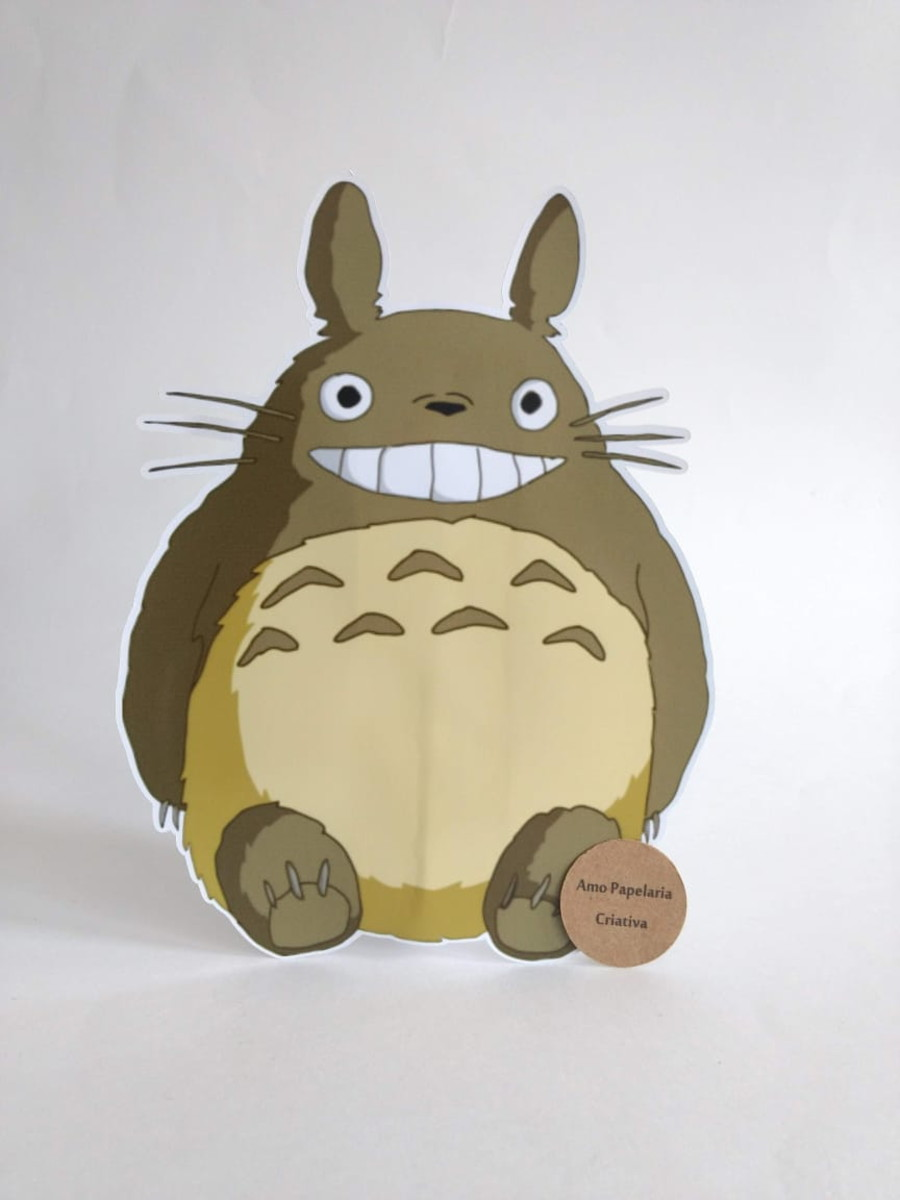Totoro: (118, 176, 719, 989)
